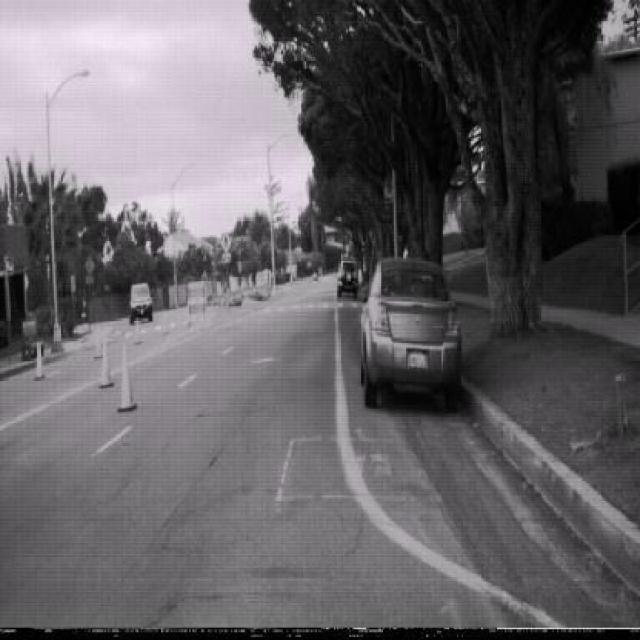pedestrianCrossing: (220, 229, 233, 254)
